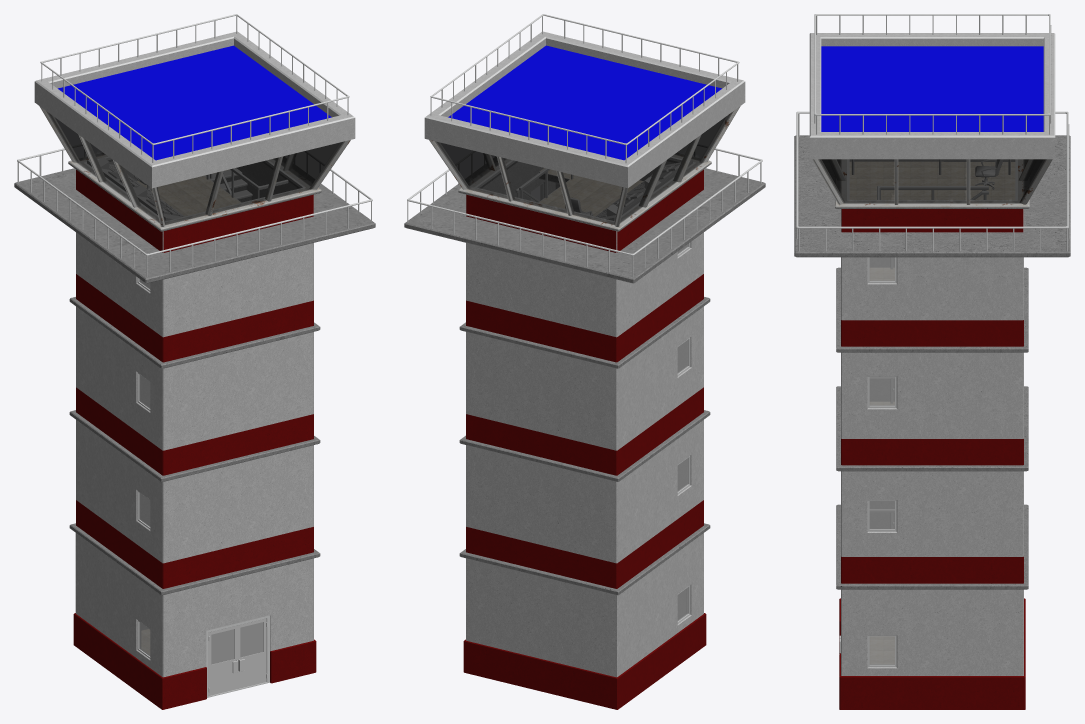
The model's file is Tower02.fbx.
The picture shows the model from 3 angles, left to right: view 1: azimuth 30°, elevation 25°; view 2: azimuth 150°, elevation 25°; view 3: azimuth 270°, elevation 25°; orthographic projection. The views are drawn at different scales.
Visible parts, largest first — view 1: Tower02, Door02, Door01; view 2: Tower02; view 3: Tower02.
Boxes of the visible parts, left/top/right/bottom form: Tower02: left=14, top=14, right=375, bottom=709; Door02: left=208, top=625, right=238, bottom=695; Door01: left=237, top=618, right=267, bottom=688; Tower02: left=404, top=14, right=765, bottom=709; Tower02: left=794, top=14, right=1070, bottom=709.
Bounding box in the file's own units: 10.83 × 26.05 × 10.76.
